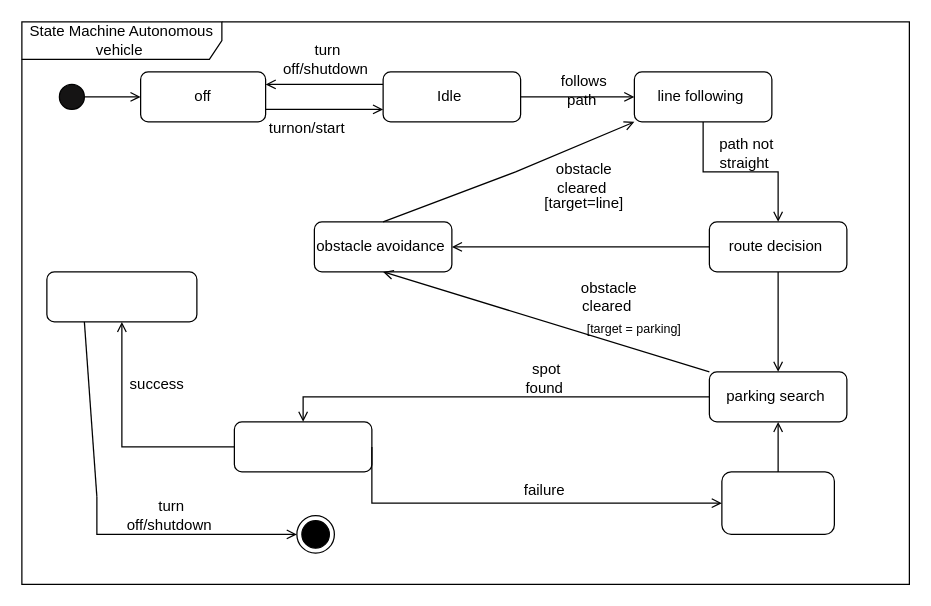
Some shapes in this 931 by 606 pixel diagram are drawn without their labels. The shapes that lost their labels are listed below. From the top down, each one's centre as x and y in pixels, then its label:
At point 121,296: "car parked".
At point 302,446: "parking maneuver".
At point 777,502: "handling parking failure".
